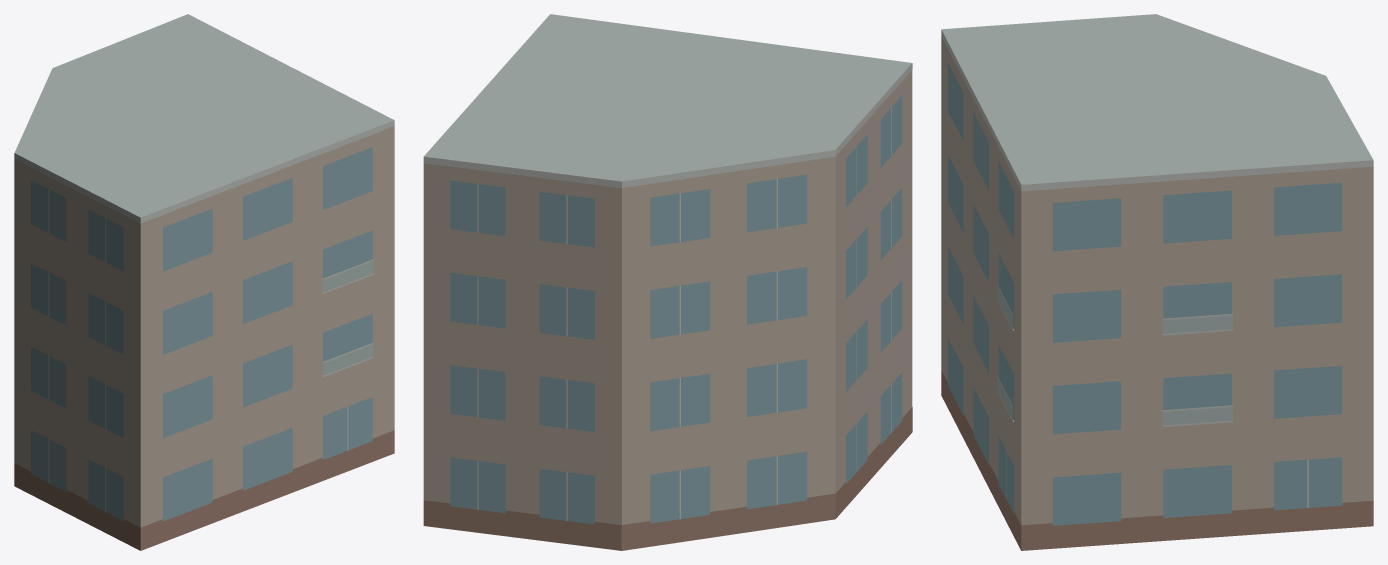
File: survey-upis-32836393.glb
3 views of the same model, side by side, from view 1: azimuth 30°, elevation 25°; view 2: azimuth 150°, elevation 25°; view 3: azimuth 270°, elevation 25° (orthographic). The views are drawn at different scales.
Visible parts, largest first — view 1: survey-upis-32836393.tmp; view 2: survey-upis-32836393.tmp; view 3: survey-upis-32836393.tmp.
Part boxes in pixels (x1,y1,x2,y2): survey-upis-32836393.tmp: (14, 14, 394, 550); survey-upis-32836393.tmp: (423, 14, 912, 550); survey-upis-32836393.tmp: (941, 14, 1373, 550).
Size of the model in its own units: 13.67 by 13.65 by 14.62.
